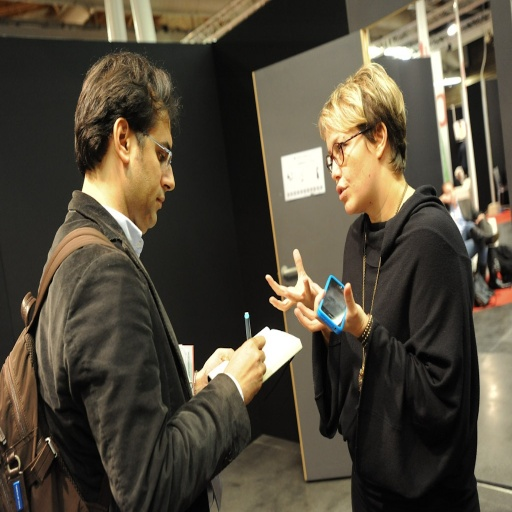hand: (291, 279, 365, 334), (223, 329, 267, 405), (200, 346, 234, 388)
